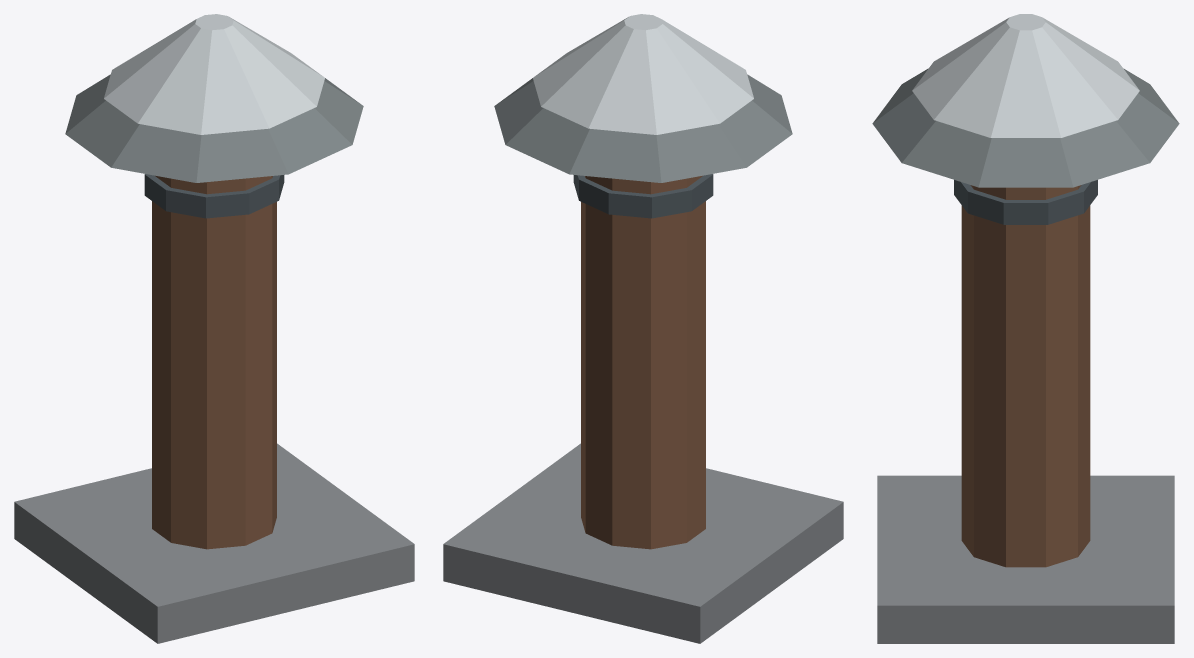
Rendered from vent_pipe.glb.
3 views of the same model, side by side, from view 1: azimuth 30°, elevation 25°; view 2: azimuth 150°, elevation 25°; view 3: azimuth 270°, elevation 25° (orthographic). The views are drawn at different scales.
Visible parts, largest first — view 1: vent_pipe; view 2: vent_pipe; view 3: vent_pipe.
Boxes of the visible parts, x1=… form: vent_pipe: x1=14, y1=14, x2=414, y2=643; vent_pipe: x1=443, y1=14, x2=843, y2=643; vent_pipe: x1=872, y1=14, x2=1179, y2=643.
Bounding box in the file's own units: 1 × 2 × 1.
